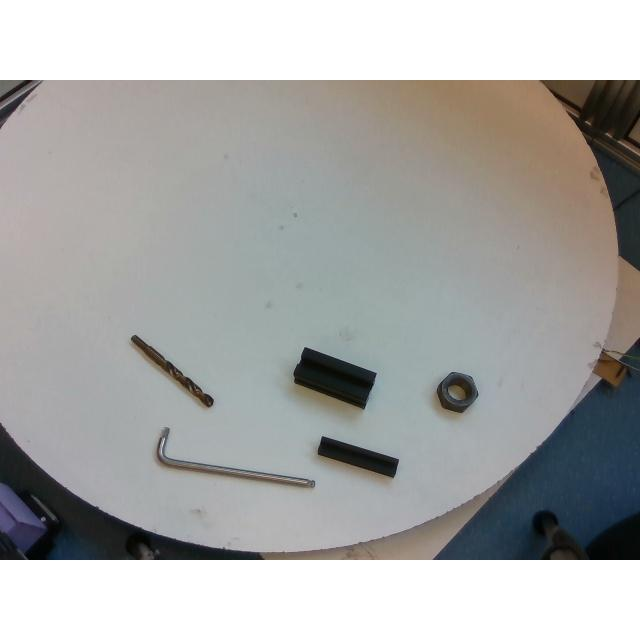AllenKey: (157, 427, 316, 487)
Drill: (130, 334, 214, 406)
F20_20_B: (317, 436, 398, 476)
M30: (438, 372, 478, 412)
S40_40_B: (294, 348, 376, 408)
